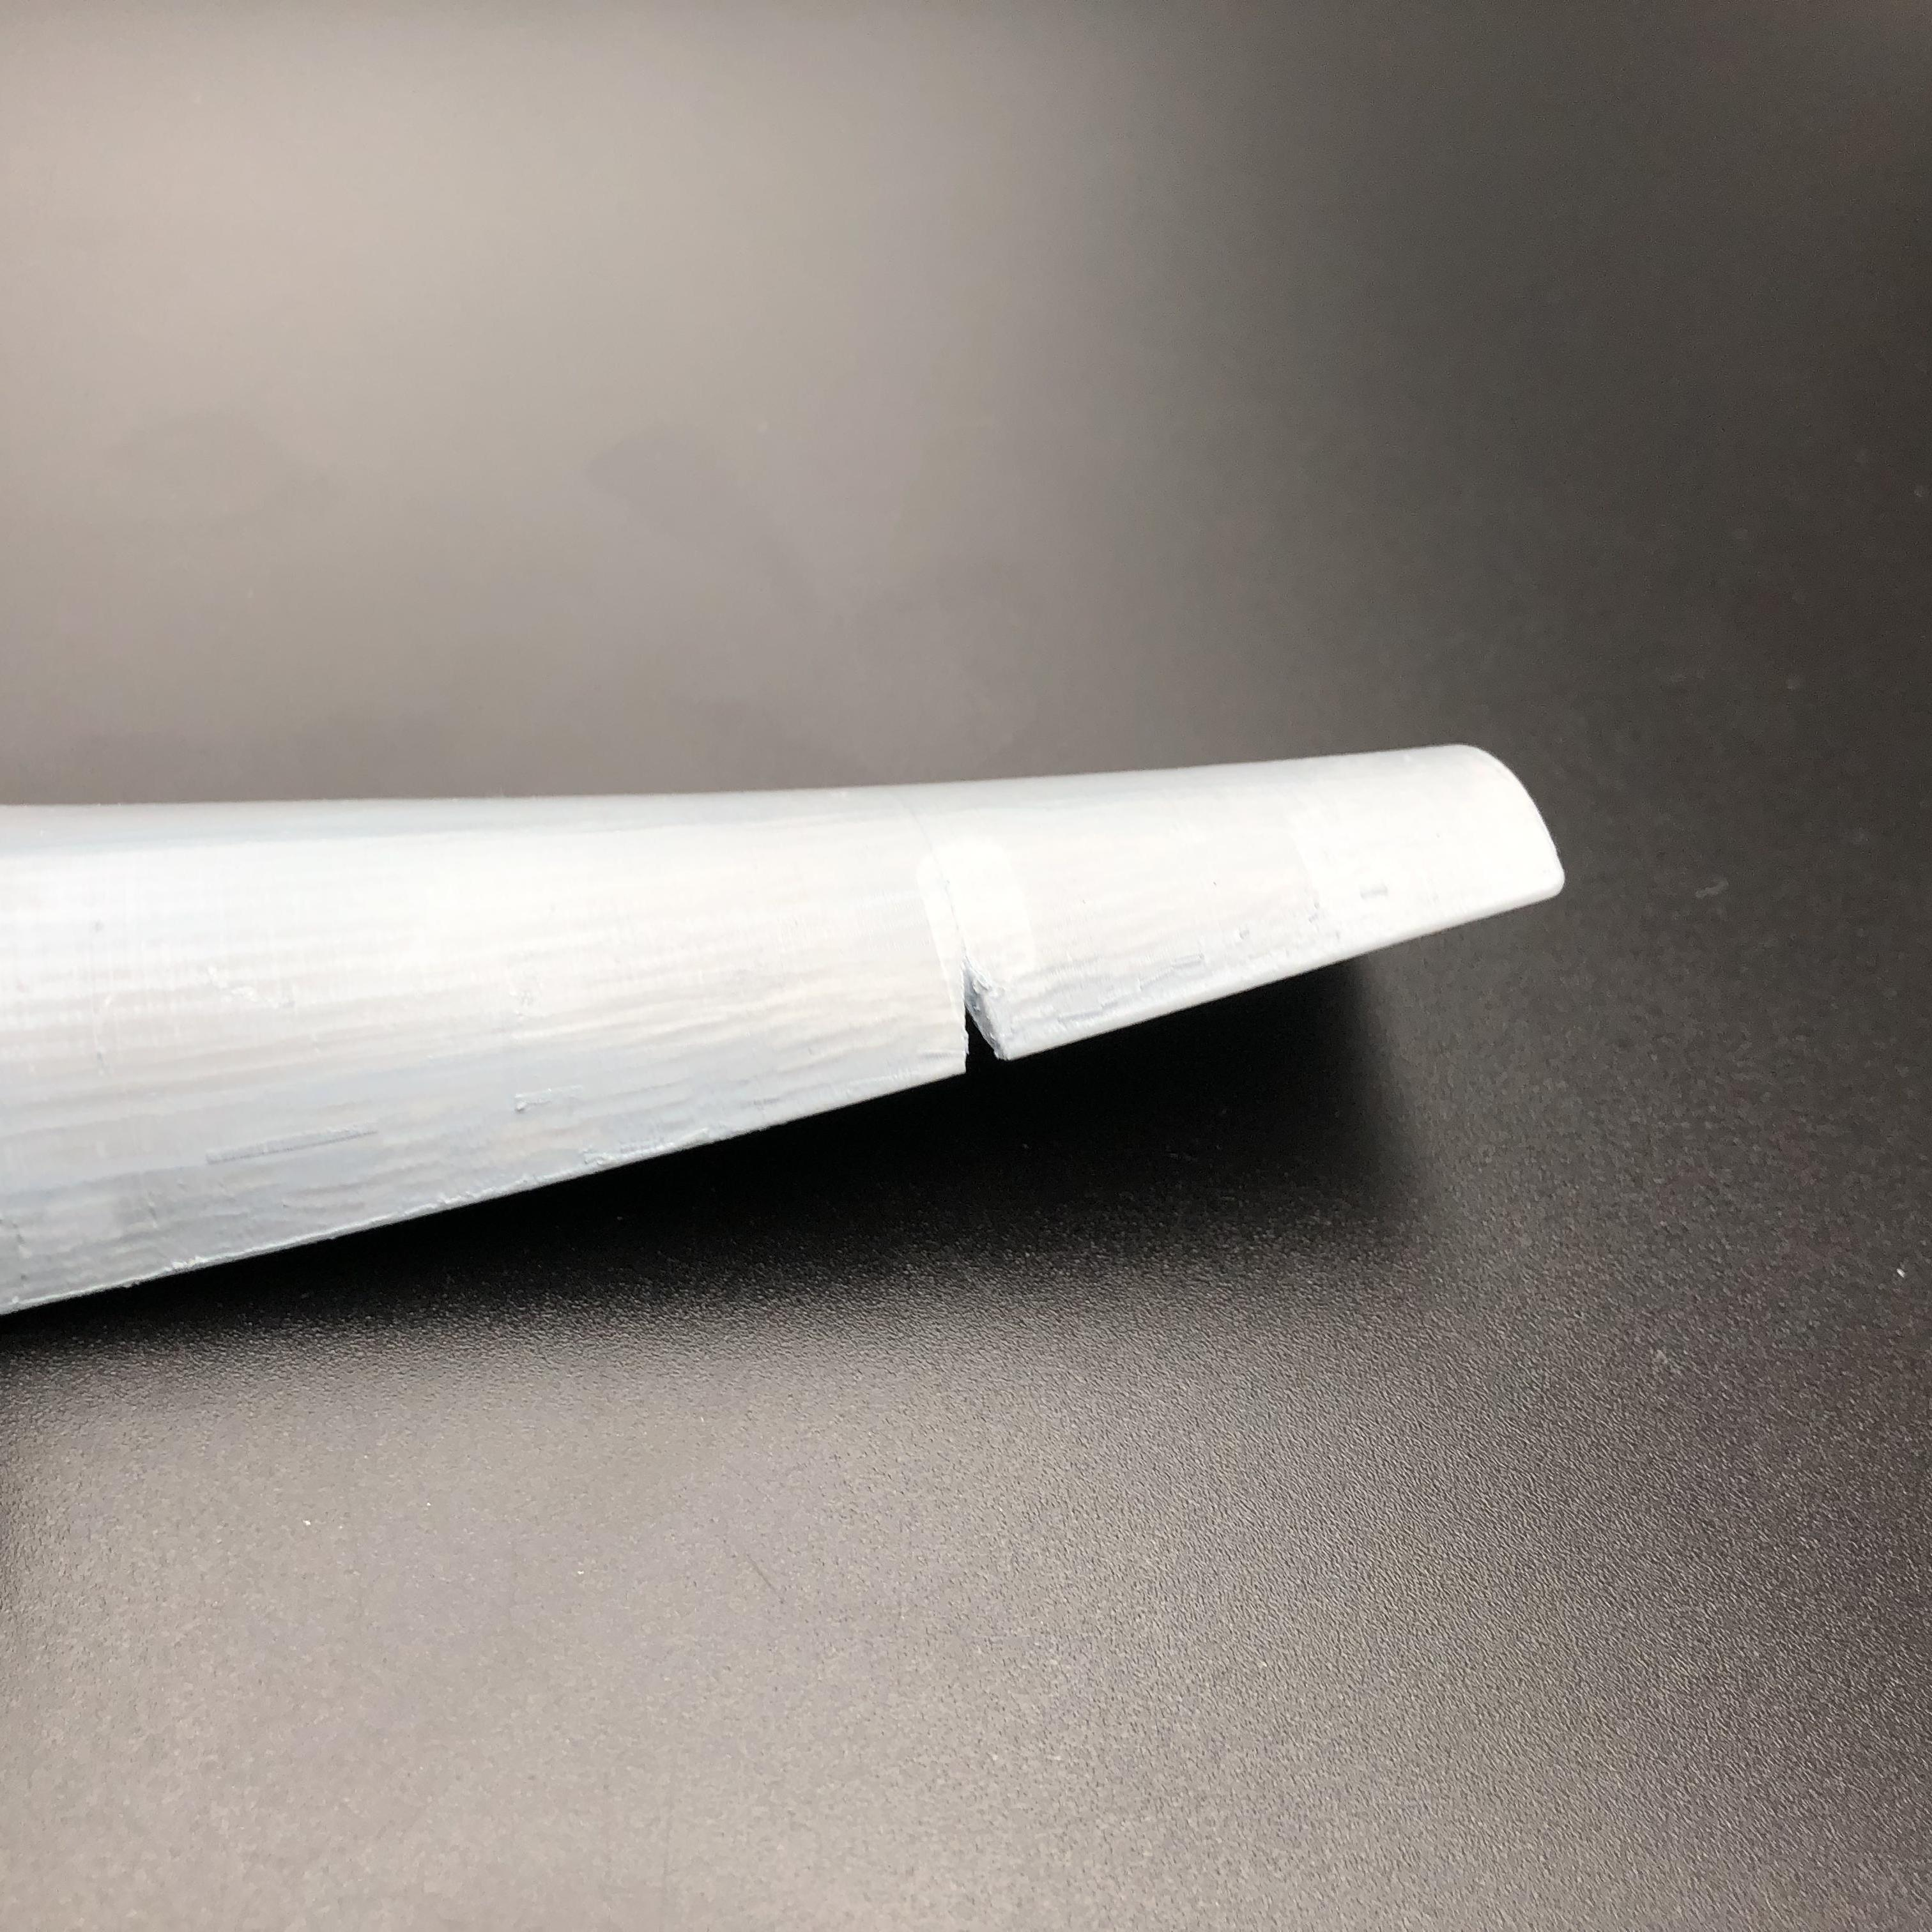groove: (948, 966, 1023, 1072)
